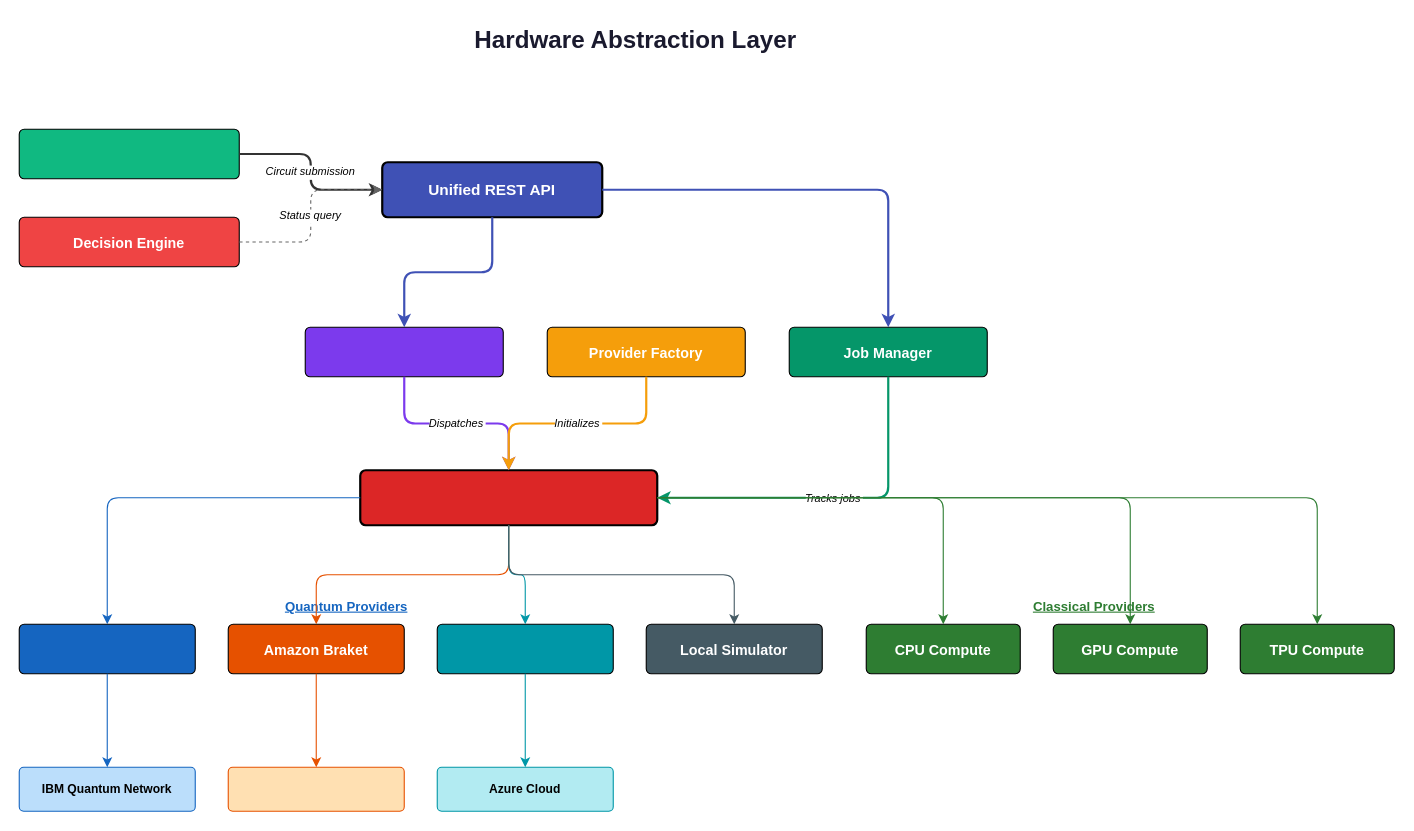
Some shapes in this 1414 by 831 pixel diagram are drawn without their labels. The box of each missing label's shape, as (x1, y1, x2, y2) in pixels:
Abstract Provider Interface: (359, 469, 658, 526)
AI Code Converter: (18, 128, 239, 179)
AWS Cloud: (227, 766, 404, 811)
Azure Quantum: (436, 623, 613, 674)
Compute Service: (304, 326, 503, 377)
IBM Quantum: (18, 623, 195, 674)
